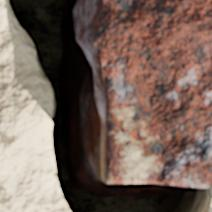brick: (77, 0, 211, 186)
crack: (0, 0, 210, 211)
